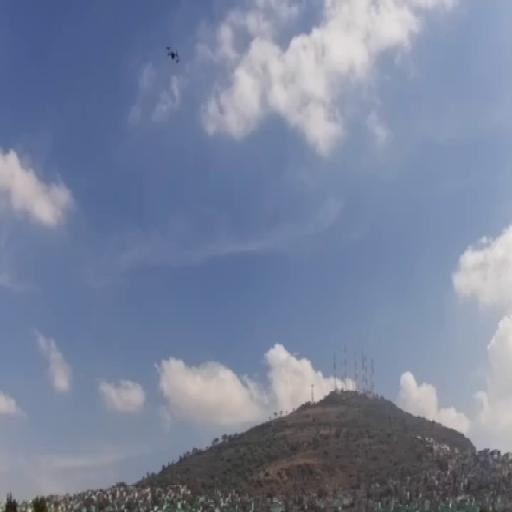drones: (164, 41, 181, 71)
